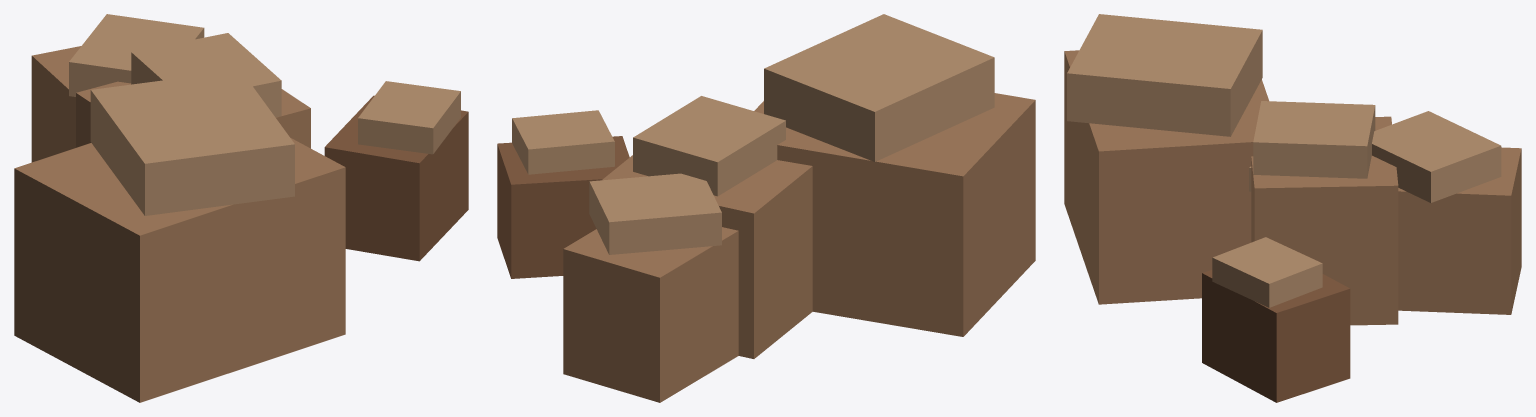
File: dd_rocks_a.glb
3 views of the same model, side by side, from view 1: azimuth 30°, elevation 25°; view 2: azimuth 150°, elevation 25°; view 3: azimuth 270°, elevation 25° (orthographic). The views are drawn at different scales.
Visible parts, largest first — view 1: DUBG_dd_rocks_a; view 2: DUBG_dd_rocks_a; view 3: DUBG_dd_rocks_a.
Part boxes in pixels (box(x1,y1,x2,y2)): DUBG_dd_rocks_a: box(14, 14, 468, 402); DUBG_dd_rocks_a: box(497, 14, 1035, 402); DUBG_dd_rocks_a: box(1064, 14, 1521, 402).
Bounding box in the file's own units: 6.66 × 2.98 × 6.13.
